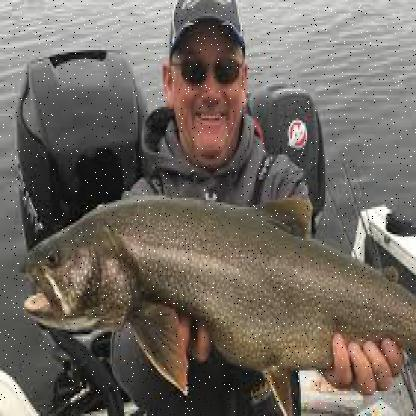fish: (22, 187, 414, 412)
